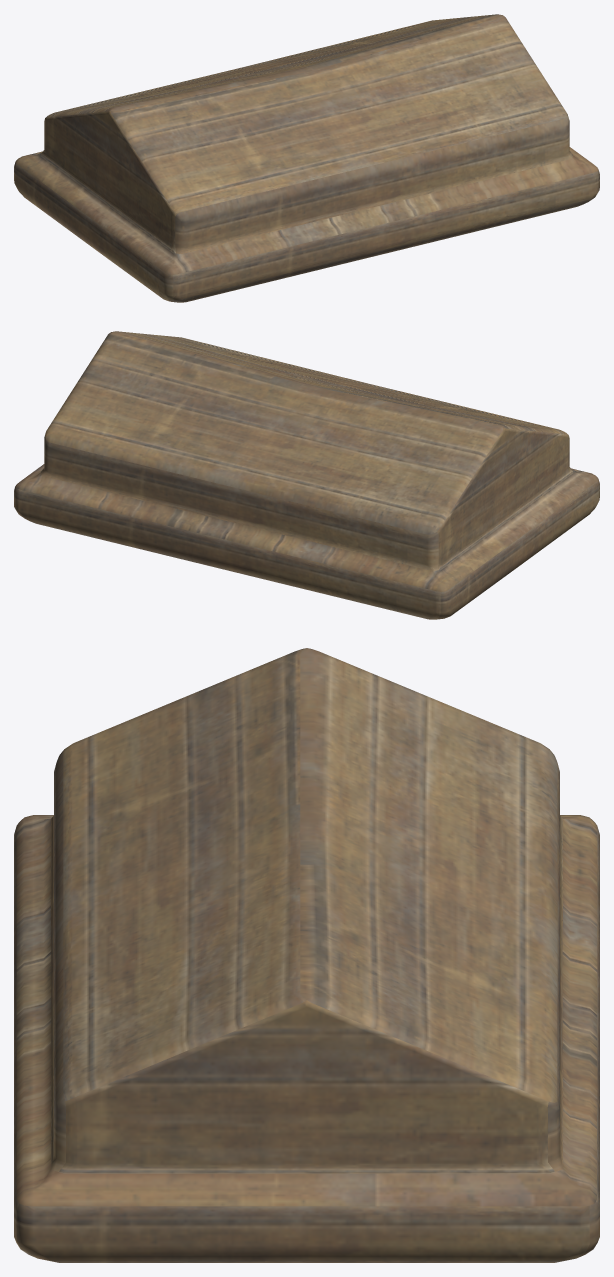
The model's file is SM_ChimneyBaseHat.fbx.
3 views of the same model, one above another, from view 1: azimuth 30°, elevation 25°; view 2: azimuth 150°, elevation 25°; view 3: azimuth 270°, elevation 25° (orthographic). The views are drawn at different scales.
Parts seen in each view (by area): view 1: SM_ChimneyBaseHat_LOD0; view 2: SM_ChimneyBaseHat_LOD0; view 3: SM_ChimneyBaseHat_LOD0.
Part boxes in pixels (x1,y1,x2,y2): SM_ChimneyBaseHat_LOD0: (14,14,599,302); SM_ChimneyBaseHat_LOD0: (14,331,599,619); SM_ChimneyBaseHat_LOD0: (14,648,599,1262).
Bounding box in the file's own units: 107 × 67.88 × 33.3.
1 material, 1 textured.
